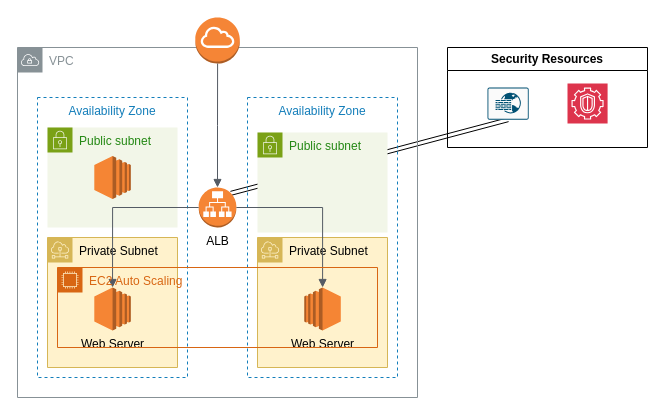
Some shapes in this 665 by 415 pixel diagram are drawn without their labels. The shapes that lost their labels are listed below. From the top down, each one's centre as x and y in pixels, then its label:
[217,40]: Internet G/W
[507,103]: AWS WAF
[587,103]: GuardDuty
[112,177]: Bastion Host
